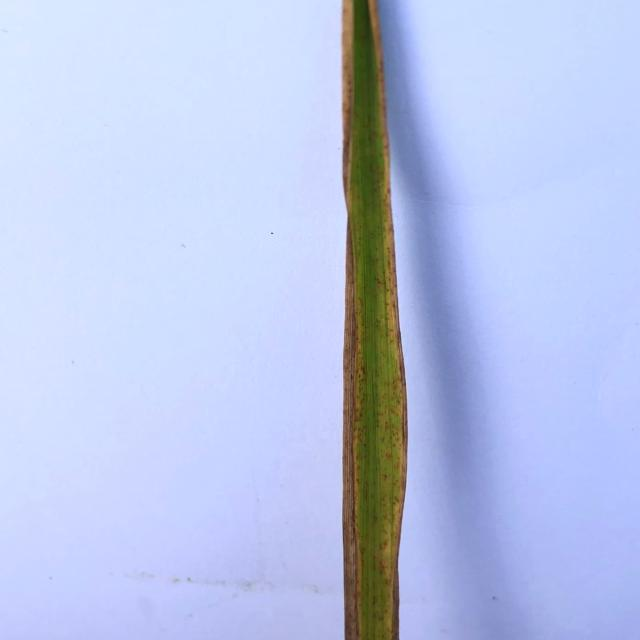tungro: (367, 0, 412, 640), (341, 0, 358, 405)
